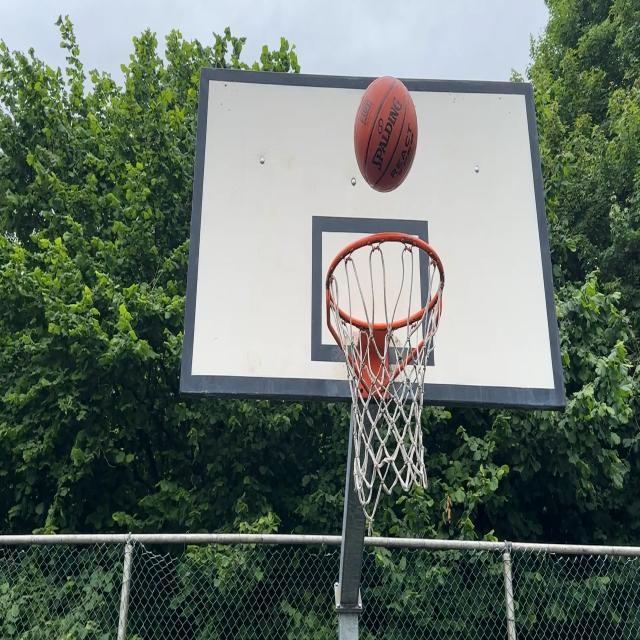Basketball: (352, 76, 418, 192)
